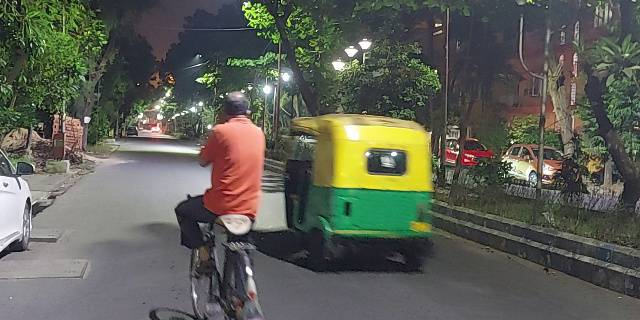Autorickshaw: (286, 113, 430, 269)
Cycle: (178, 90, 265, 316)
